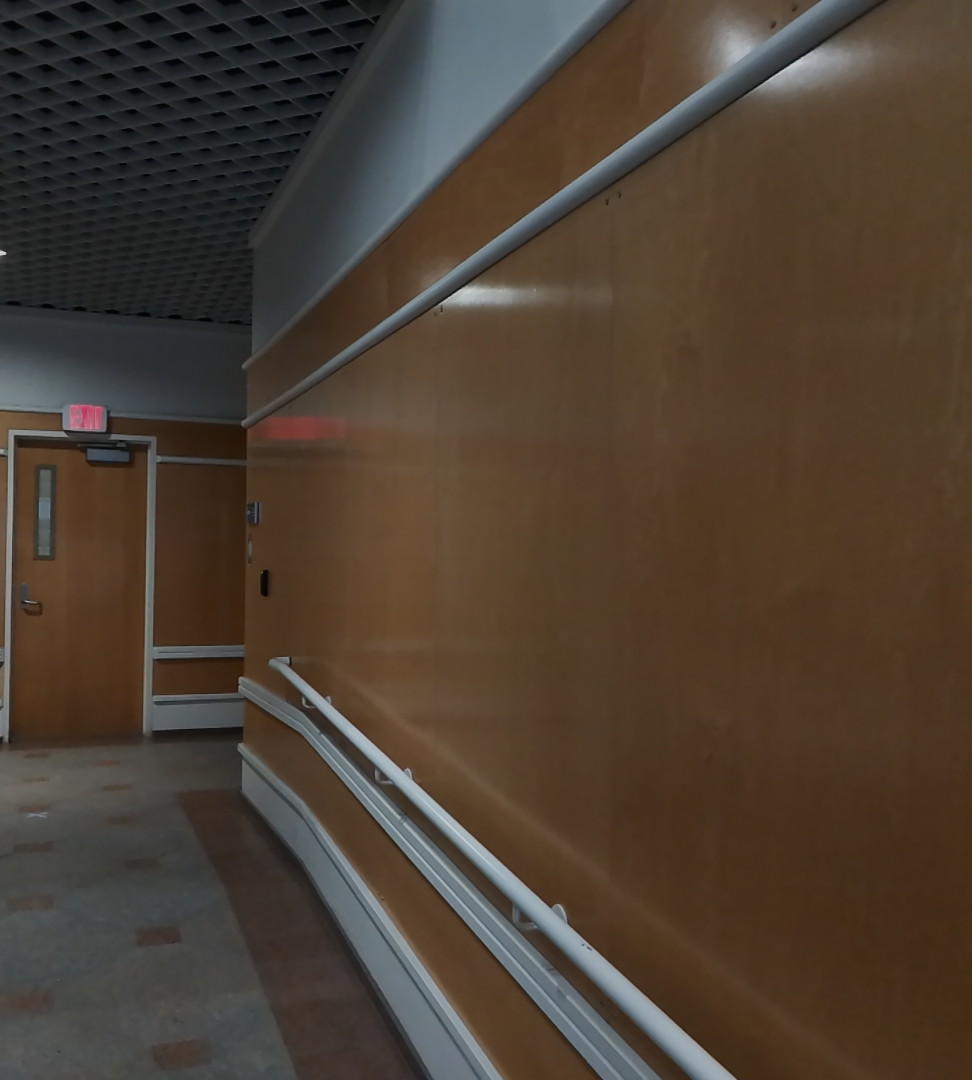emergency_exit: (60, 401, 109, 434)
